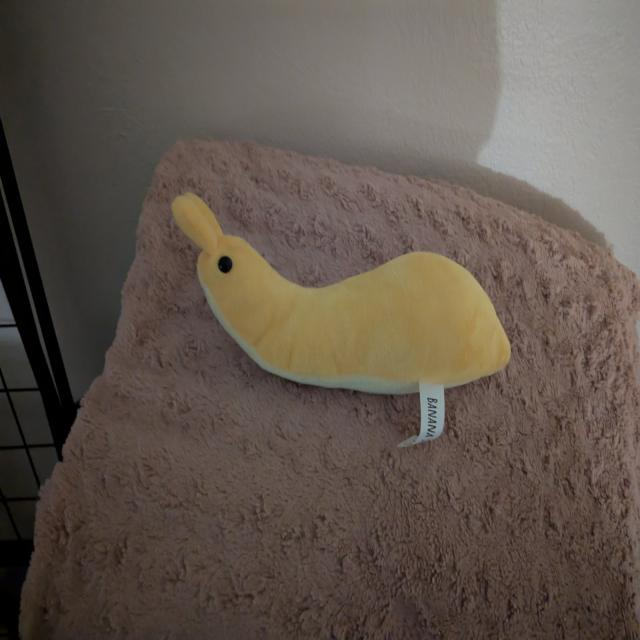banana-slug-toy: (167, 184, 520, 394)
